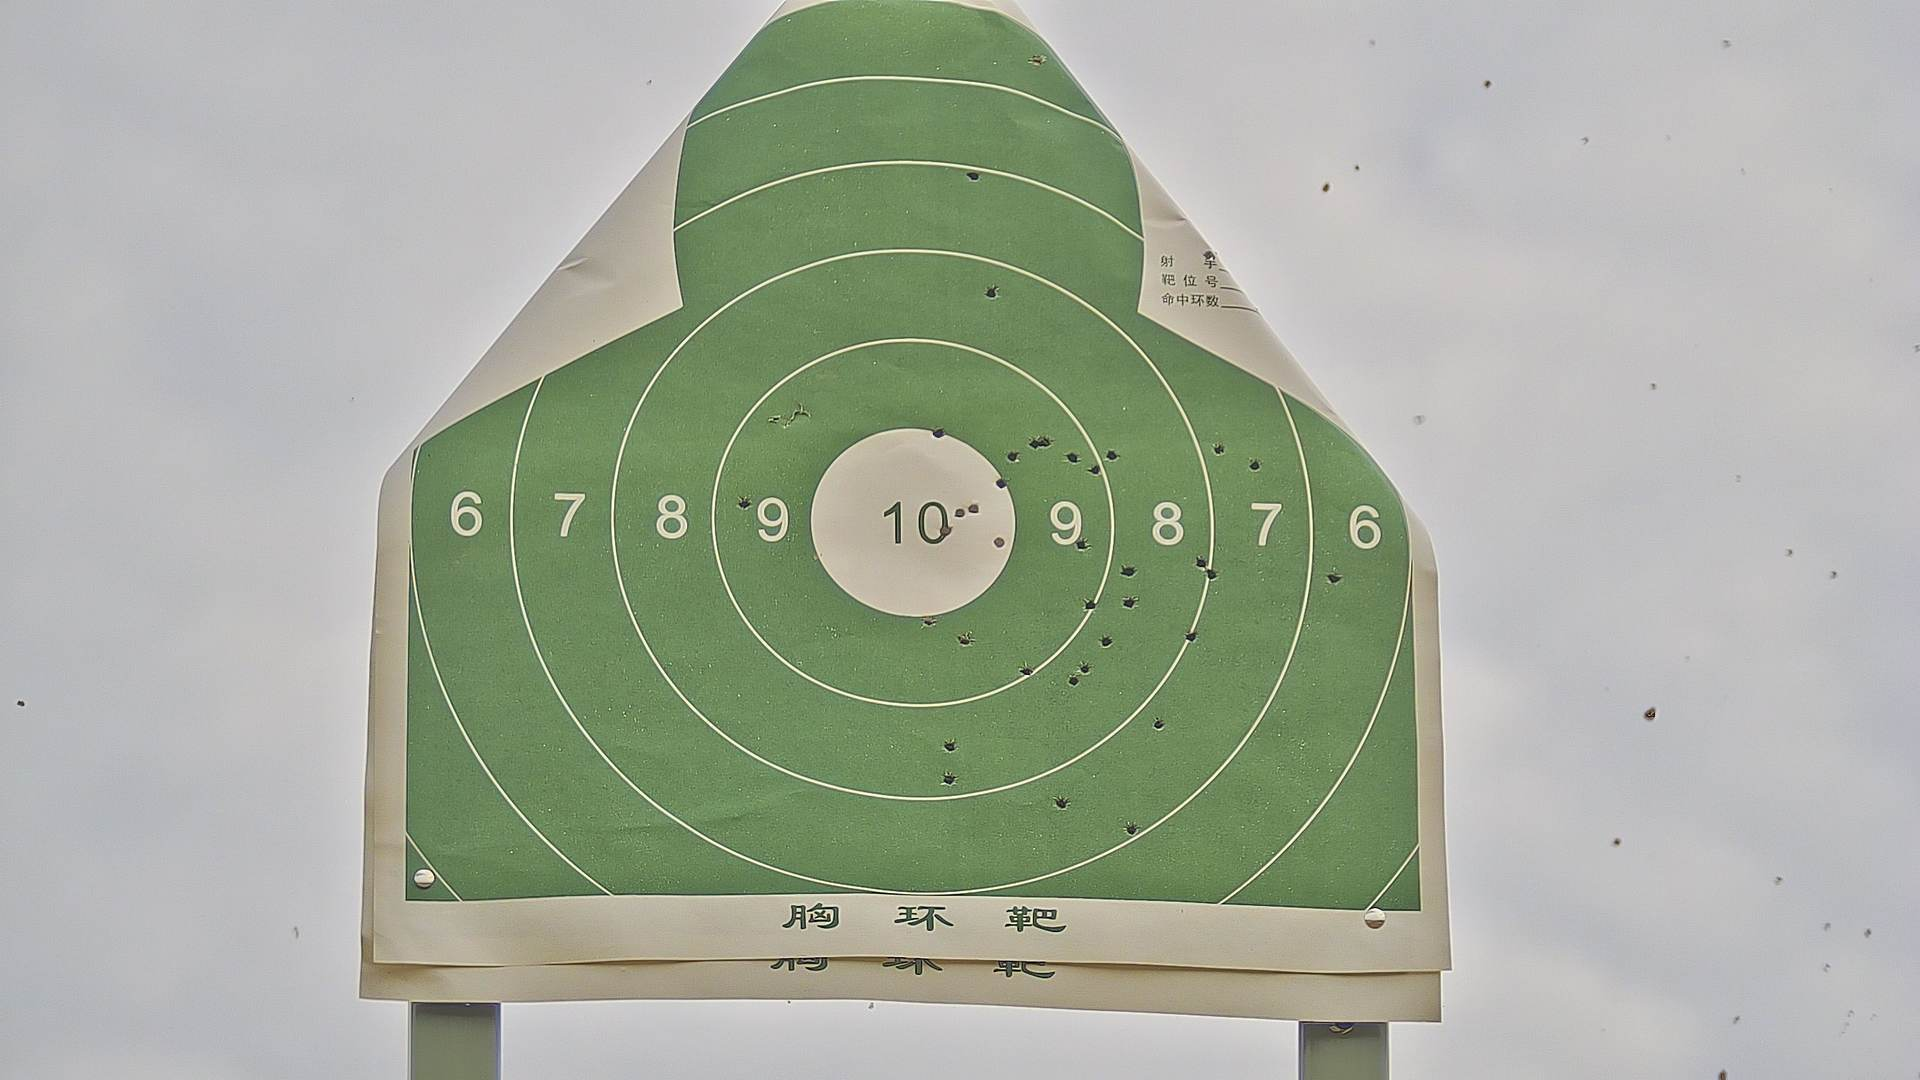hole: (1023, 46, 1052, 67), (1323, 566, 1346, 591), (989, 531, 1011, 556), (1069, 531, 1095, 553), (1118, 589, 1139, 613), (936, 766, 960, 787), (1084, 460, 1105, 483), (1116, 560, 1138, 582), (926, 422, 949, 442), (953, 626, 975, 647), (732, 491, 752, 513), (1079, 593, 1101, 613), (942, 732, 960, 756), (1004, 444, 1021, 469), (1182, 626, 1201, 647), (982, 280, 1001, 302), (1102, 442, 1121, 463), (1244, 454, 1262, 473), (916, 611, 936, 629), (1097, 632, 1116, 651), (1209, 438, 1226, 458), (1051, 793, 1071, 810), (1121, 818, 1138, 837), (992, 473, 1007, 495), (1077, 655, 1093, 676), (1036, 431, 1054, 450), (1015, 659, 1033, 678), (1149, 713, 1167, 731), (936, 521, 953, 538), (1201, 564, 1218, 582), (1062, 447, 1077, 465), (1022, 434, 1036, 454), (967, 496, 978, 520), (1189, 553, 1205, 570), (952, 502, 965, 522), (965, 167, 981, 183), (1064, 673, 1079, 688)
kernel: (903, 522, 916, 524)
target: (402, 3, 1423, 915)
ten: (806, 425, 1022, 618)
